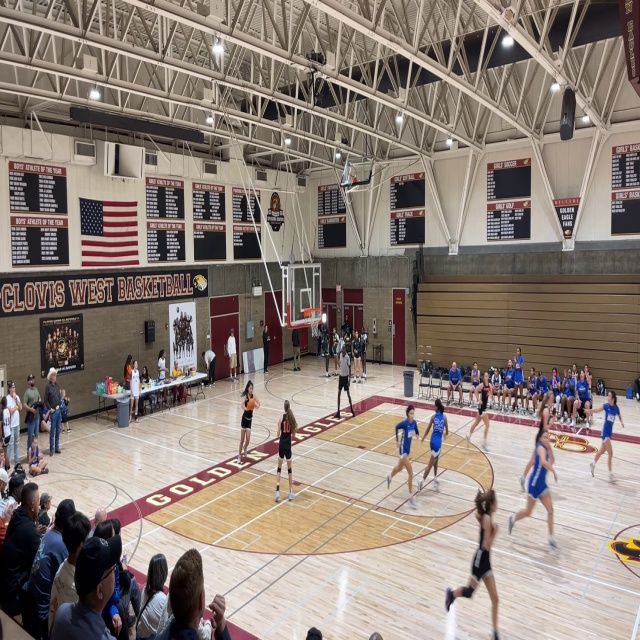Basketball: (246, 399, 258, 410)
